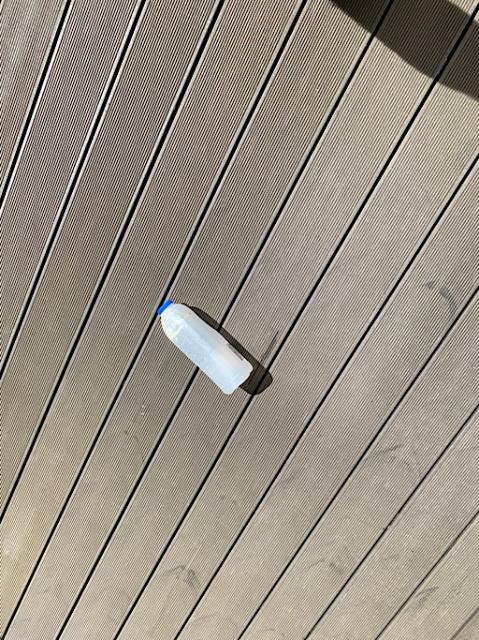plastic: (160, 303, 251, 393)
